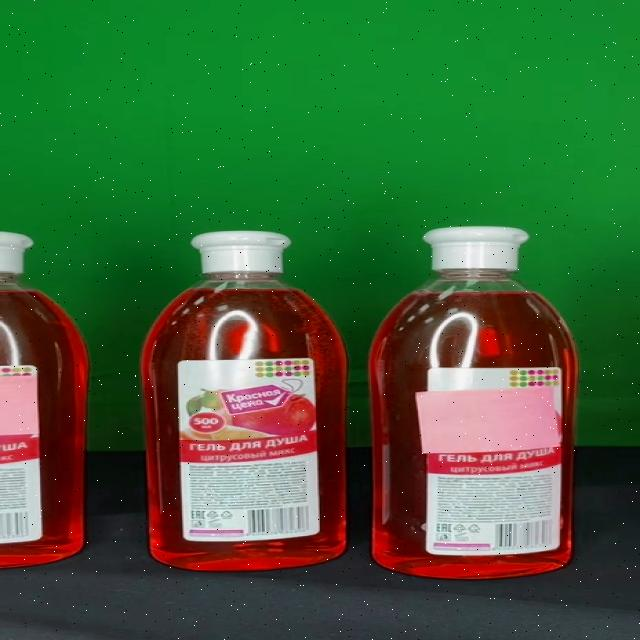Bottle: (370, 226, 579, 580), (141, 231, 347, 570)
Cap: (422, 228, 530, 270), (190, 232, 294, 274)
